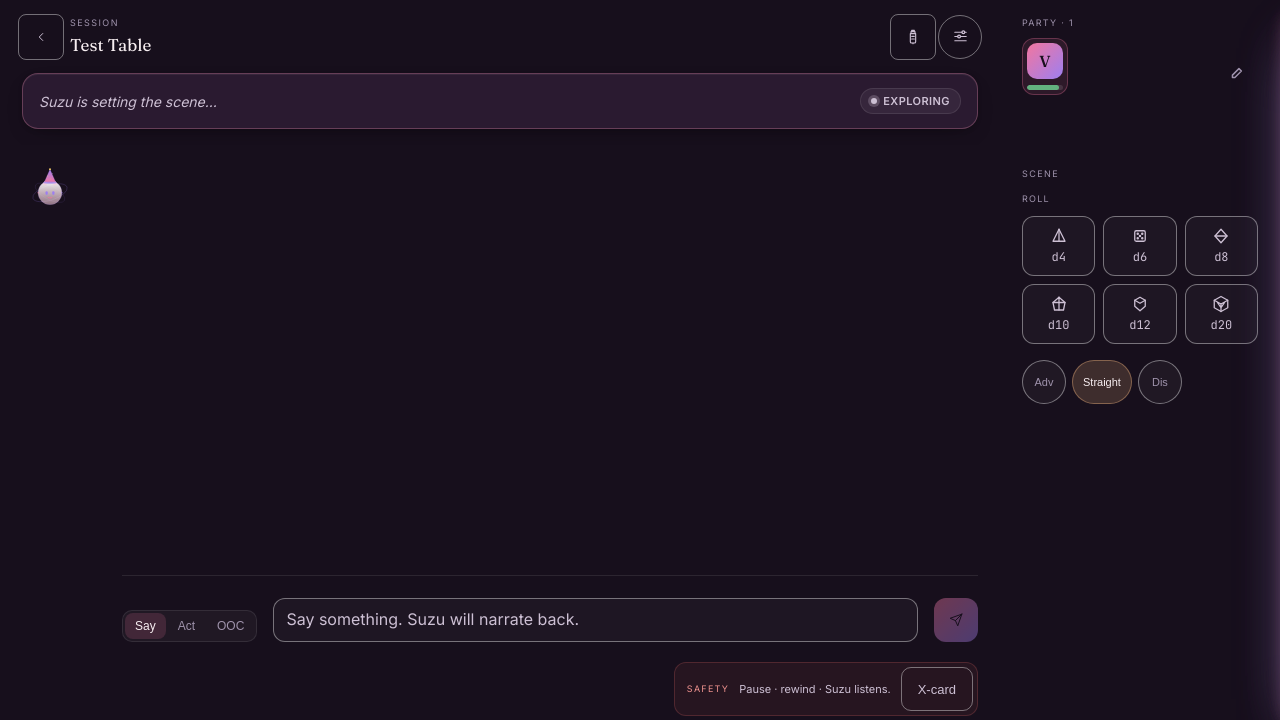
Test: deduped-resume — no double-append › a dedup-return (status resumed) does not double-append; the durable poll stamps the SAME row, never a second one
Check: the text "Test Table" is shown, box [70, 32, 151, 57]
In the text box: (596, 620) [273, 598, 918, 642], type "I open the chest."
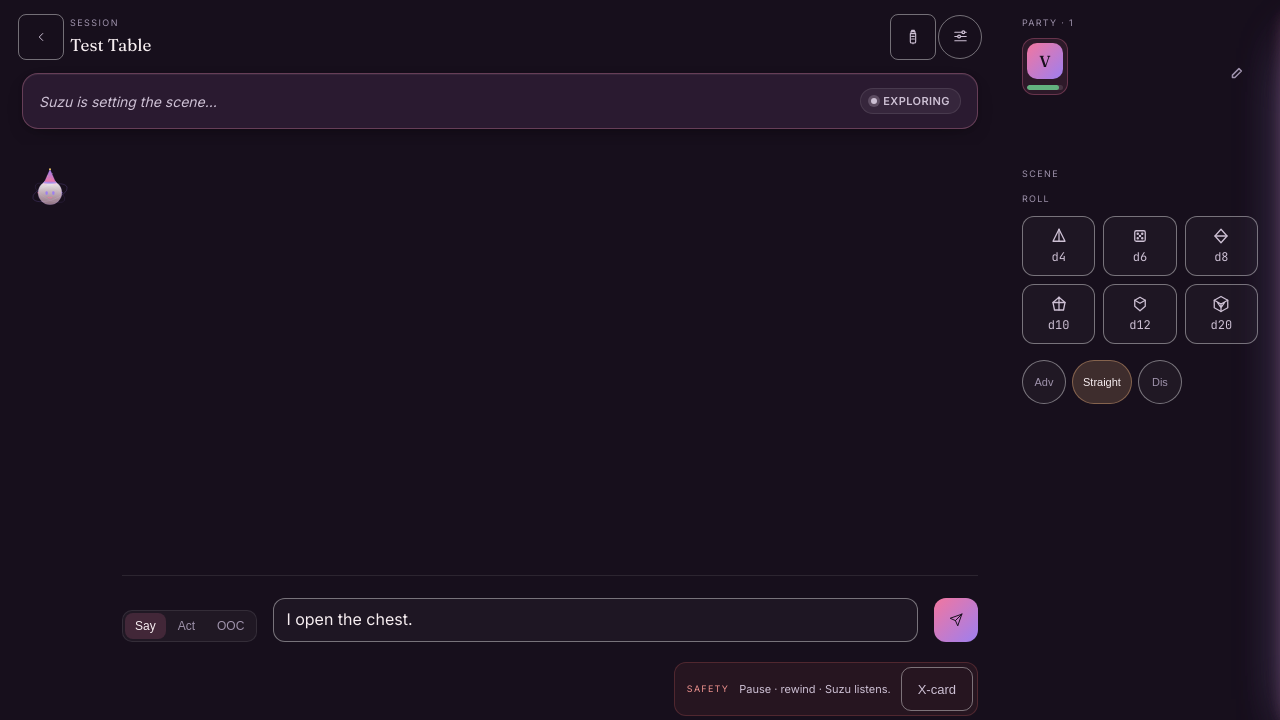
Press Enter in the text box, box [273, 598, 918, 642]
Wait 4000 ms
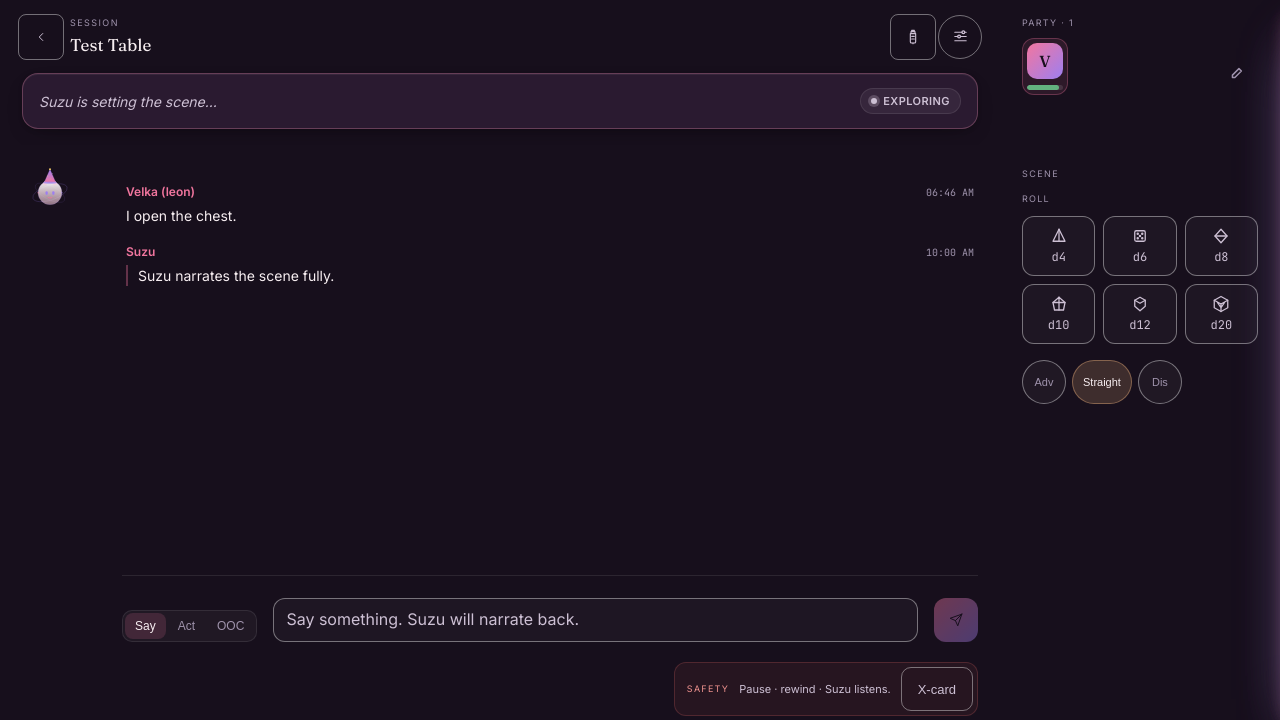
Check: the text "I open the chest." is shown once, box [126, 207, 236, 224]
Check: the text "Suzu narrates the scene fully." is shown once, box [126, 265, 974, 286]
Check: the text "Suzu narrates the scene fully." is shown, box [138, 267, 334, 284]
